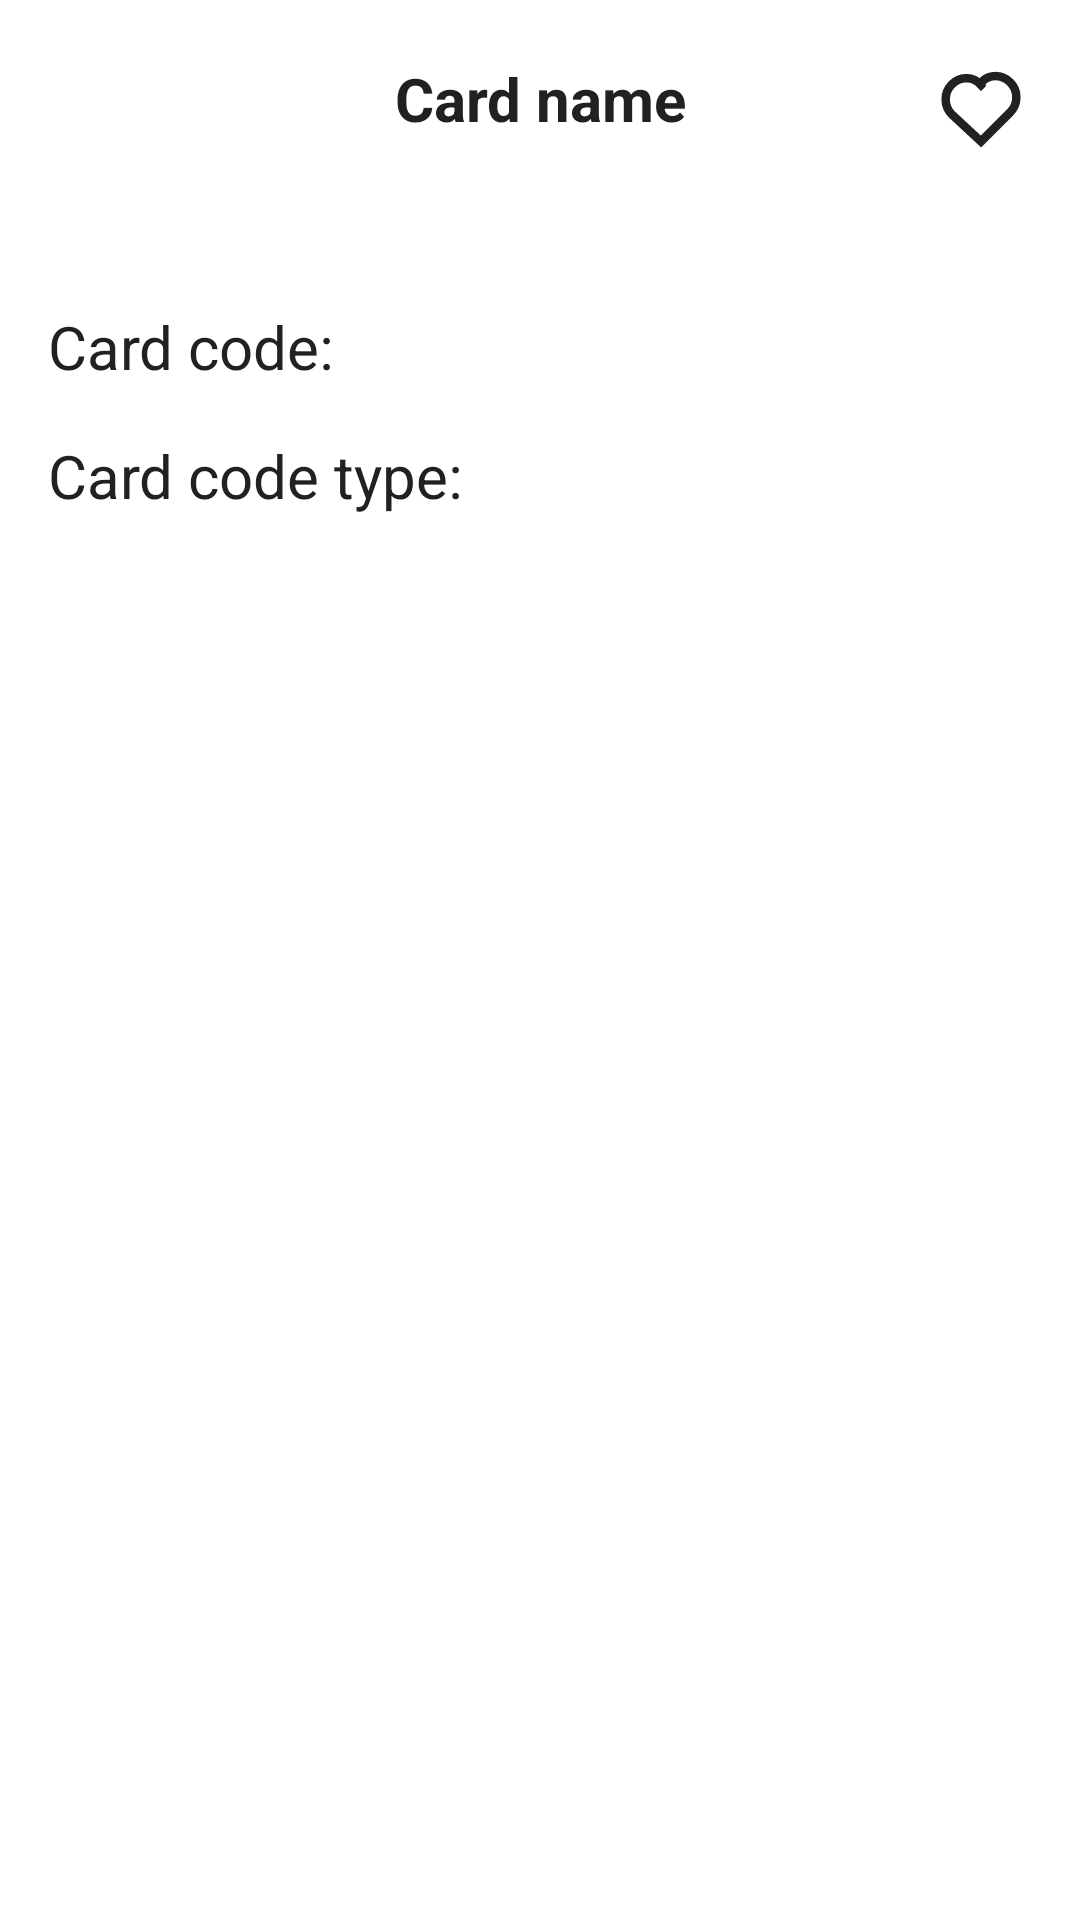

Icon click points for this 1080x1920 phone screenshot, format (x=x, y=y):
favorite: (x=981, y=109)
